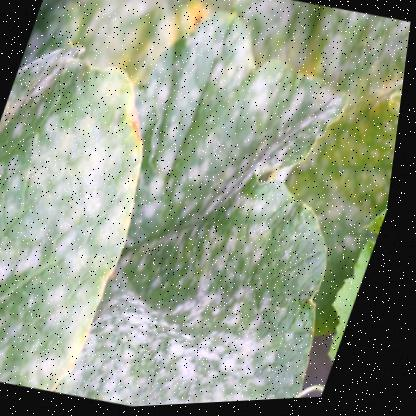PowderyMildew: (0, 75, 158, 375), (89, 242, 309, 410), (137, 56, 291, 232)
